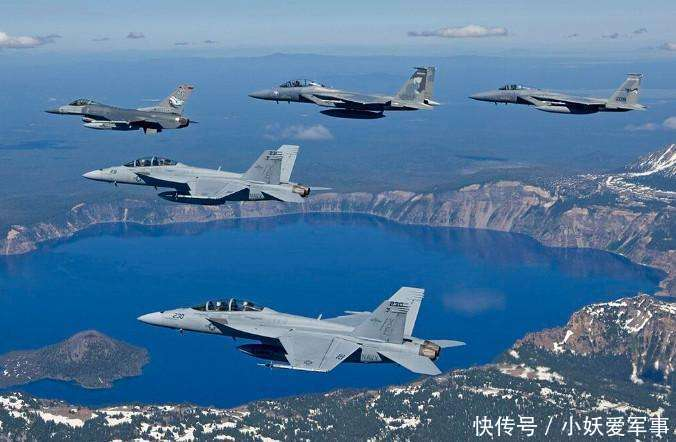airplane: (142, 279, 465, 378), (84, 142, 335, 206), (247, 61, 444, 117), (469, 70, 648, 114), (44, 83, 196, 132)
